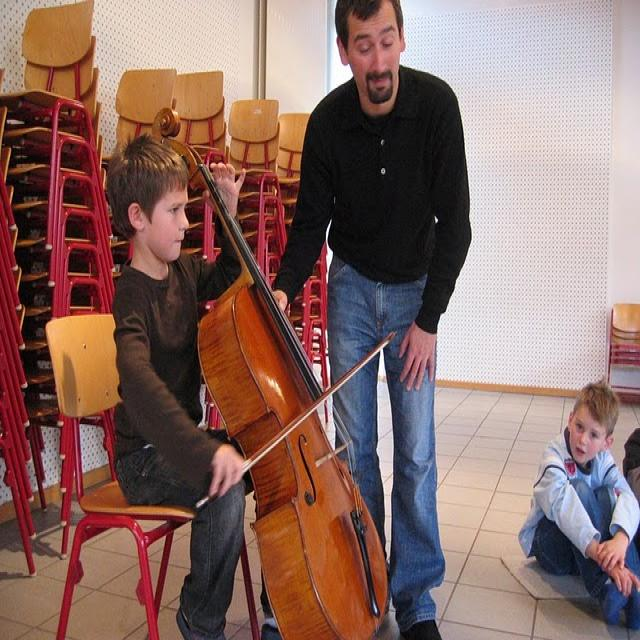cello: (152, 107, 390, 638)
